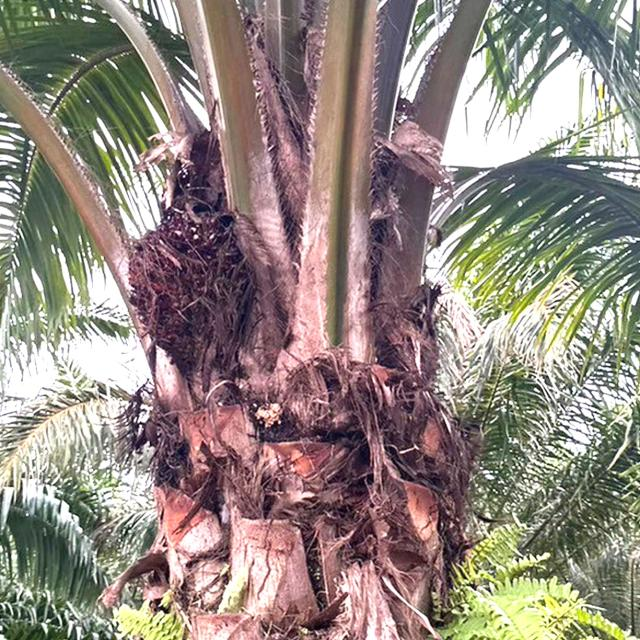ripe: (115, 189, 268, 381)
